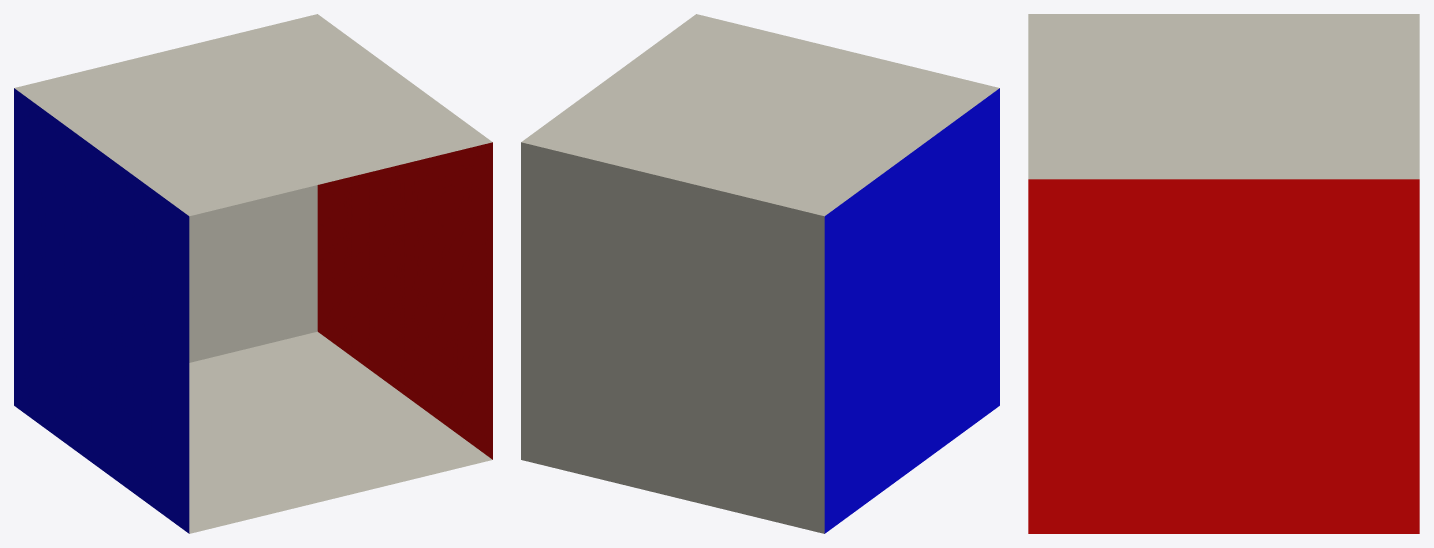
Rendered from room.fbx.
3 renders of one model, left to right at view 1: azimuth 30°, elevation 25°; view 2: azimuth 150°, elevation 25°; view 3: azimuth 270°, elevation 25°, orthographic. The views are drawn at different scales.
Visible parts, largest first — view 1: pPlane6; view 2: pPlane6; view 3: pPlane6.
Part boxes in pixels (bbox=[...]): pPlane6: bbox=[14, 14, 492, 533]; pPlane6: bbox=[521, 14, 999, 533]; pPlane6: bbox=[1028, 14, 1419, 533].
Bounding box in the file's own units: 0.02 × 0.02 × 0.02.
